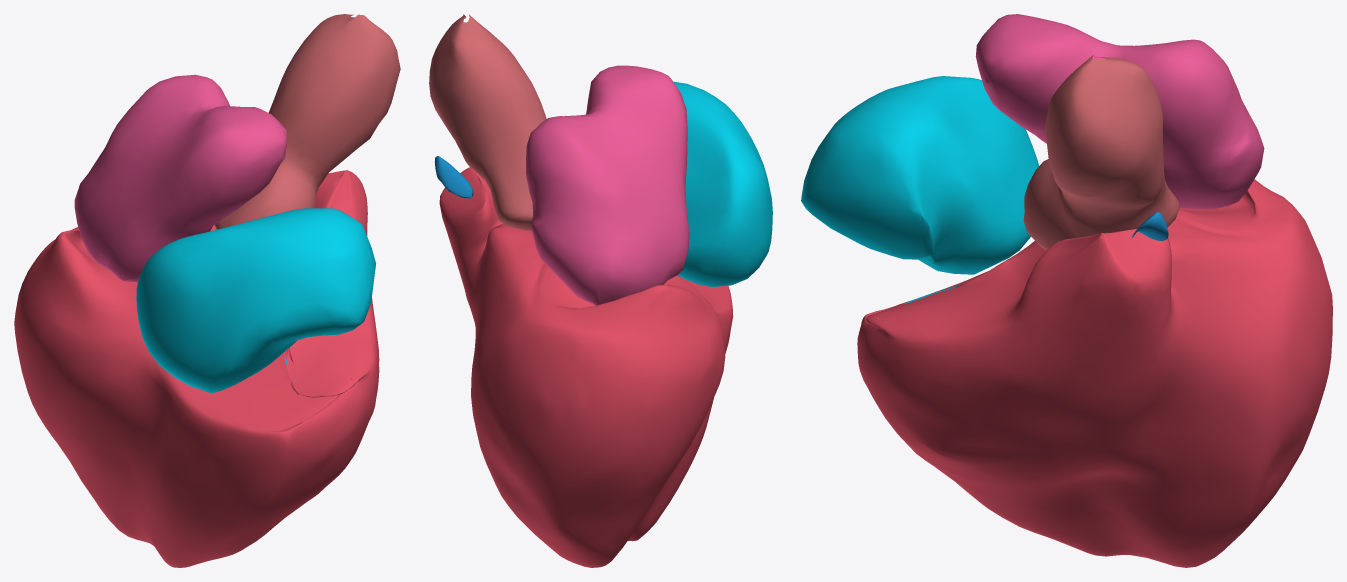
The model's file is frame_26.glb.
The picture shows the model from 3 angles, left to right: view 1: azimuth 30°, elevation 25°; view 2: azimuth 150°, elevation 25°; view 3: azimuth 270°, elevation 25°; orthographic projection. The views are drawn at different scales.
Parts seen in each view (by area): view 1: Renderer Node; view 2: Renderer Node; view 3: Renderer Node.
Part boxes in pixels (box(x1,y1,x2,y2)): Renderer Node: box(14, 14, 400, 567); Renderer Node: box(429, 14, 772, 567); Renderer Node: box(801, 14, 1332, 567).
Size of the model in its own units: 102 by 154 by 123.
